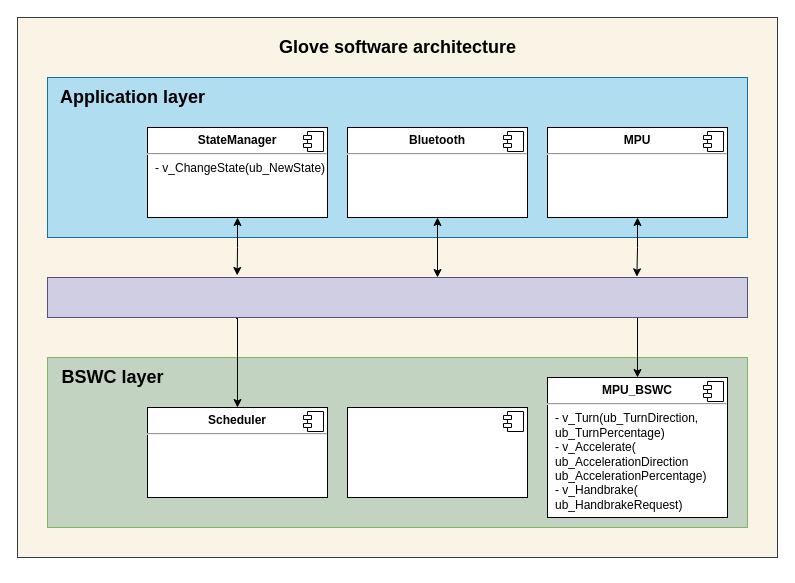
Some shapes in this 795 by 583 pixel diagram are drawn without their labels. The shapes that lost their labels are listed below. From the top down, each one's box as (x1, y1, x2, y2) in pixels, then its label:
(46, 276, 748, 318): RTE
(346, 406, 528, 498): CommunicationMode
